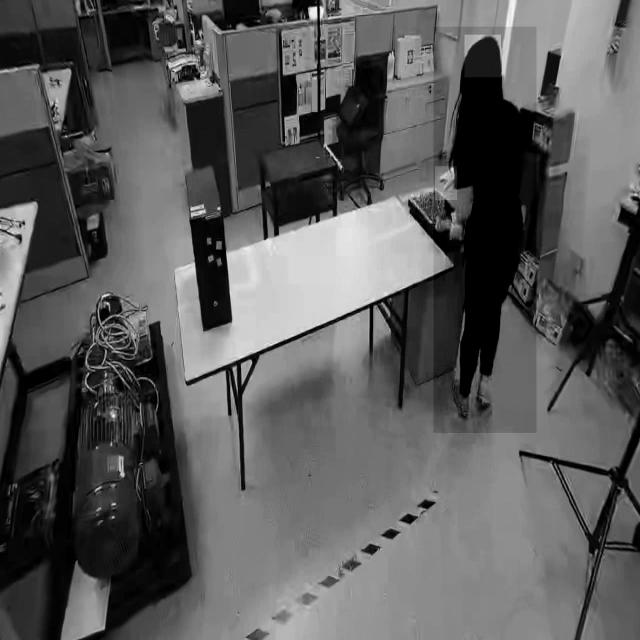hand_glove: (435, 166, 457, 200), (446, 213, 462, 247)
head_nohelmet: (464, 35, 501, 78)
person: (433, 26, 537, 434)
shoes: (450, 370, 472, 422), (475, 376, 495, 414)
